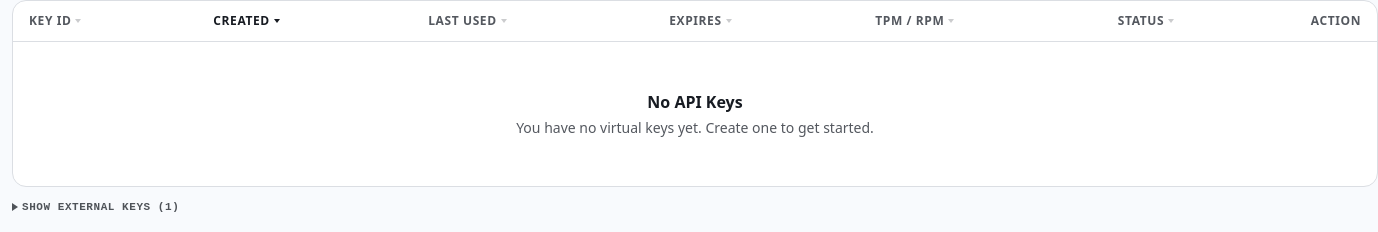
Test: KeysTable — keys minted elsewhere › an unmanaged (foreign) key locks its kebab to Disable only
Click the button "Show external keys (1)".
click(96, 207)  # box [12,199,179,216]
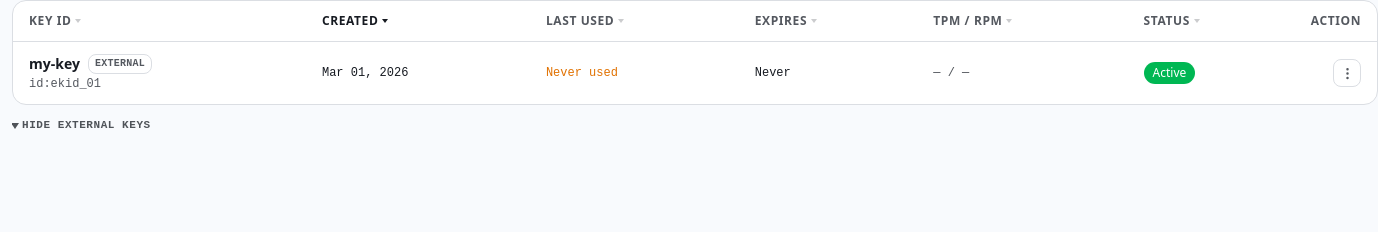
Press Enter in the button named "More actions", box [1333,59,1361,87]
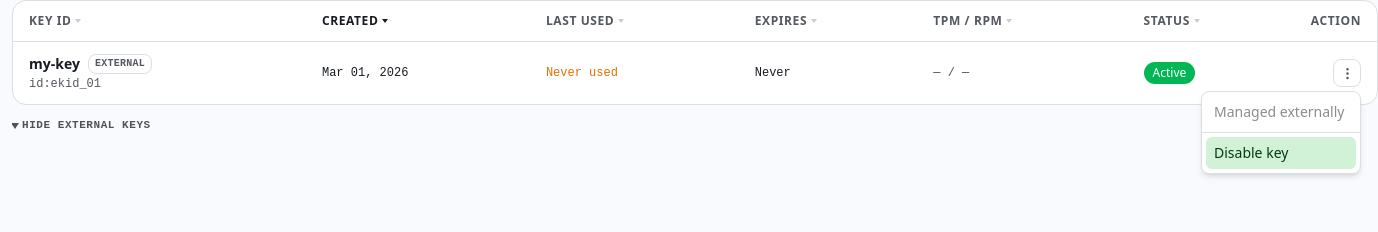
expect the menu item "Managed externally" is shown: met, box [1214,102,1344,121]
expect the menu item "Disable key" is shown: met, box [1206,137,1356,169]
